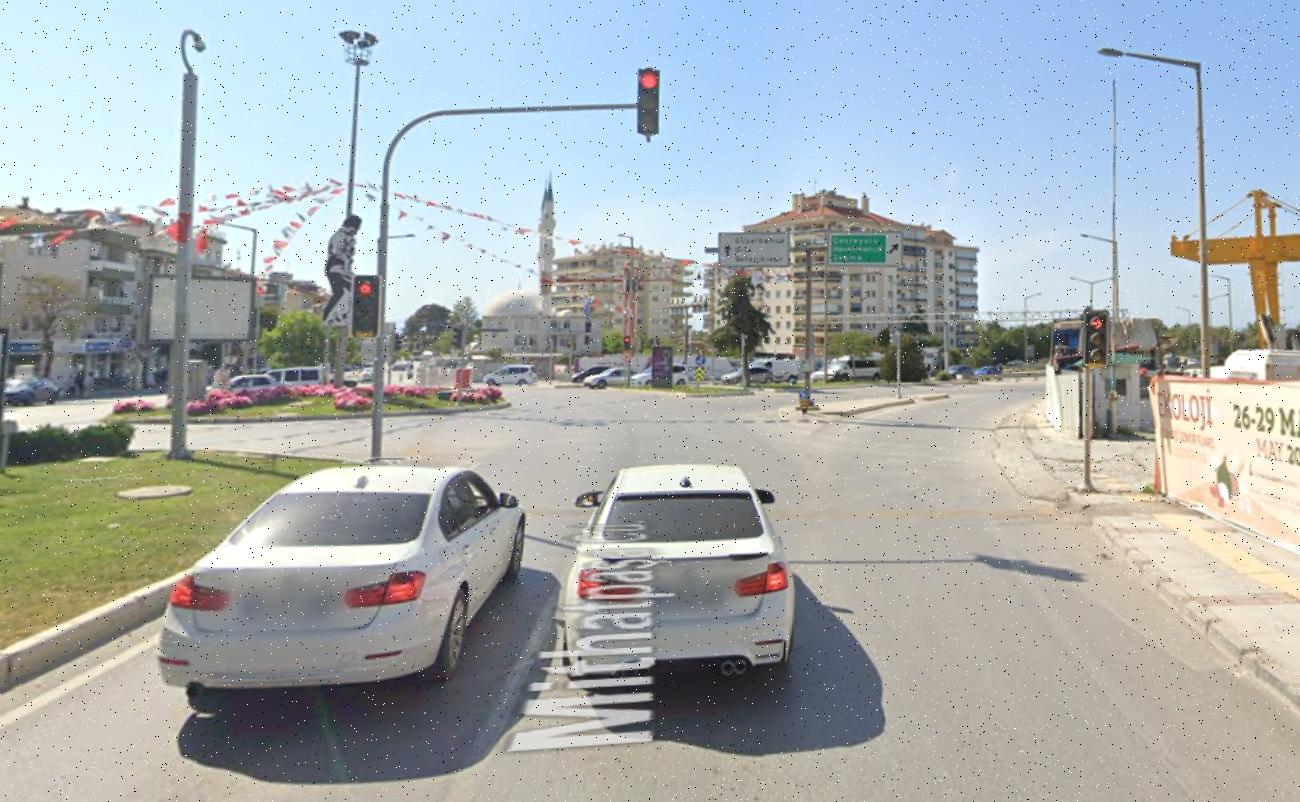redlight: (638, 68, 659, 131), (354, 276, 378, 331), (1085, 312, 1107, 363)
